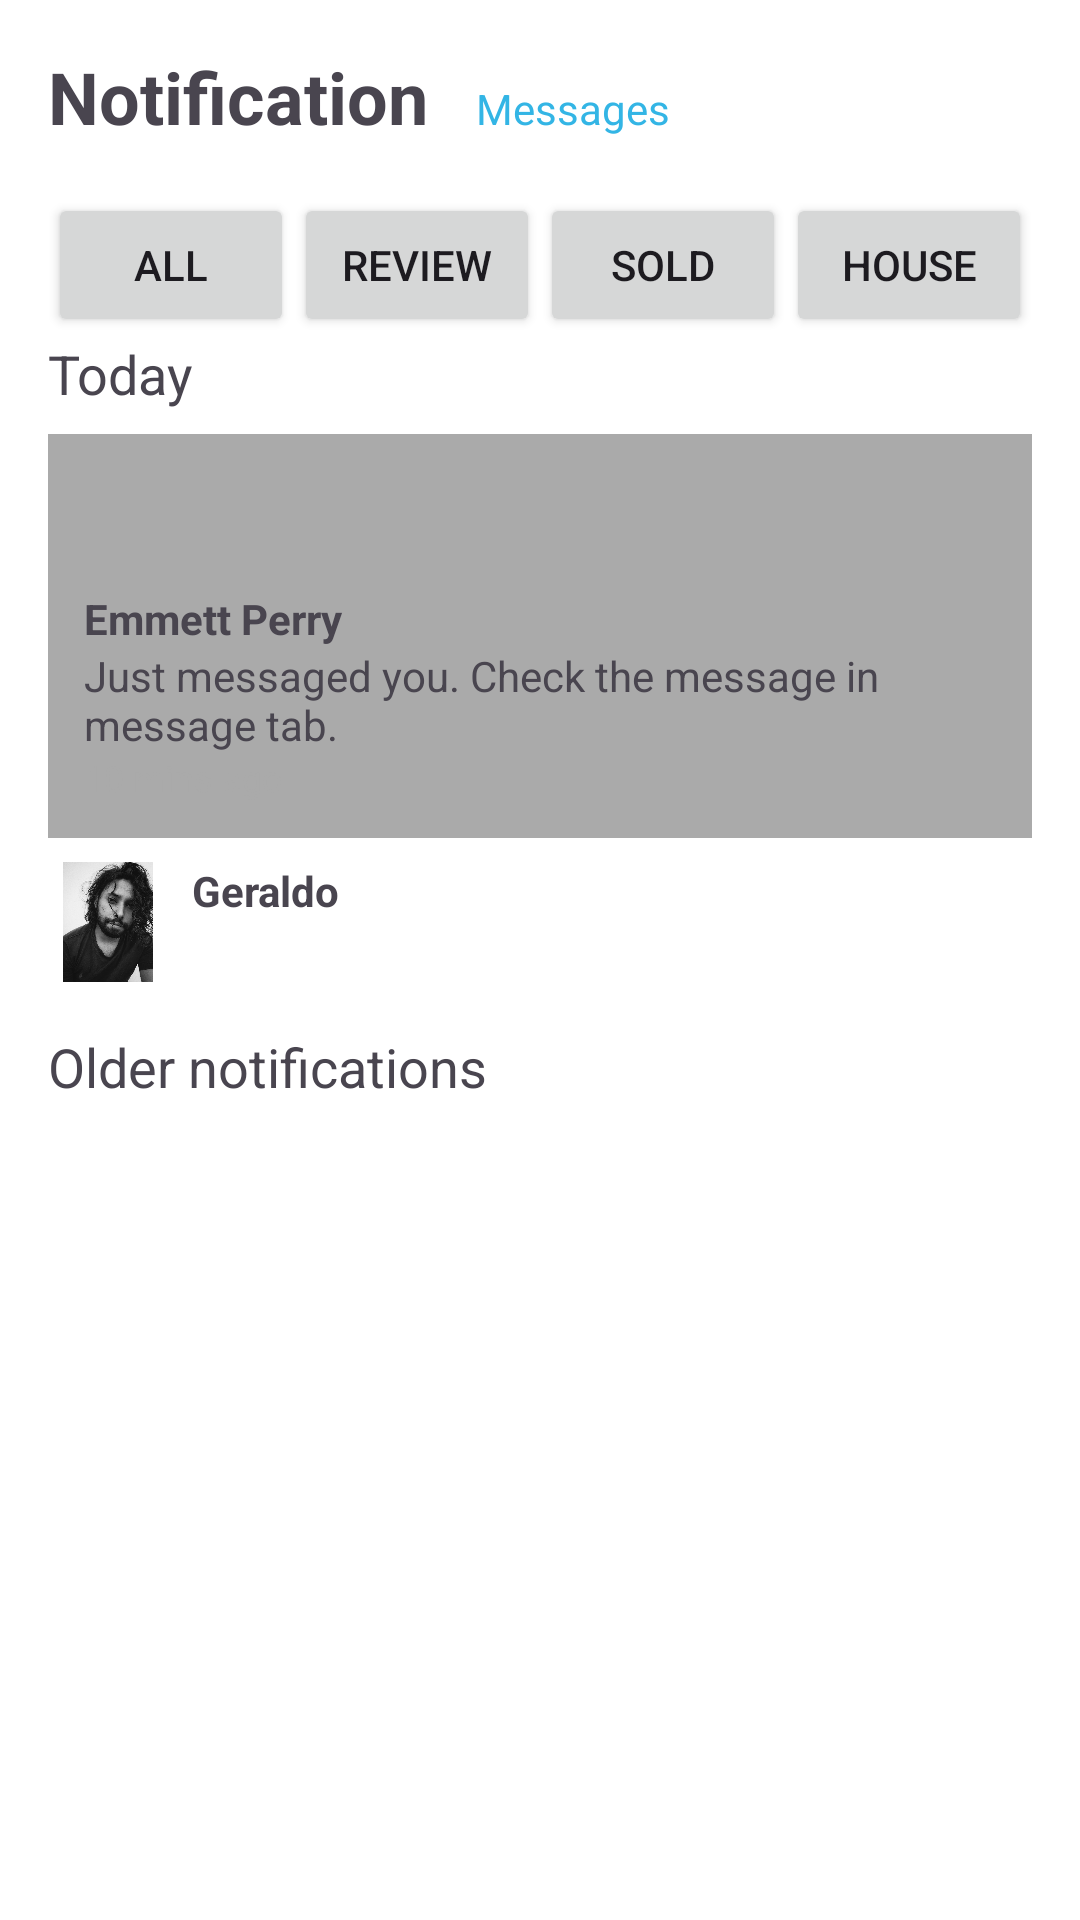

Screen size 1080px×1920px. Icon name, then its center in pixels as point (x, y):
profile: point (108, 922)
